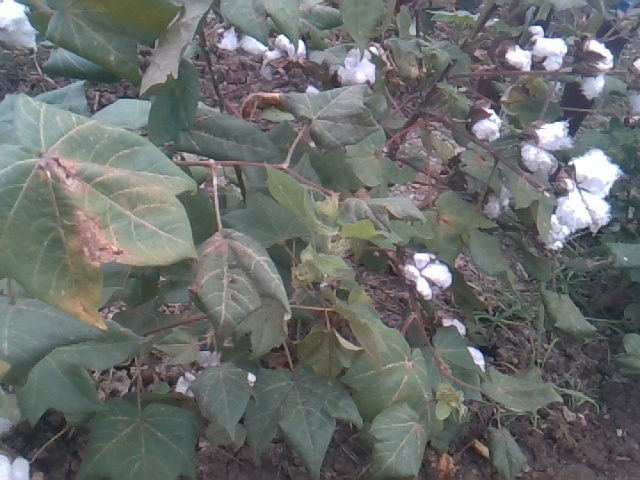cotton: (555, 149, 620, 234), (517, 120, 577, 179), (400, 248, 453, 301), (575, 37, 615, 100), (2, 5, 47, 54), (339, 46, 379, 86), (532, 36, 567, 73), (457, 343, 489, 383), (469, 110, 503, 144), (261, 37, 305, 62), (434, 315, 470, 337), (504, 47, 534, 71), (222, 21, 241, 53), (528, 22, 546, 40)
